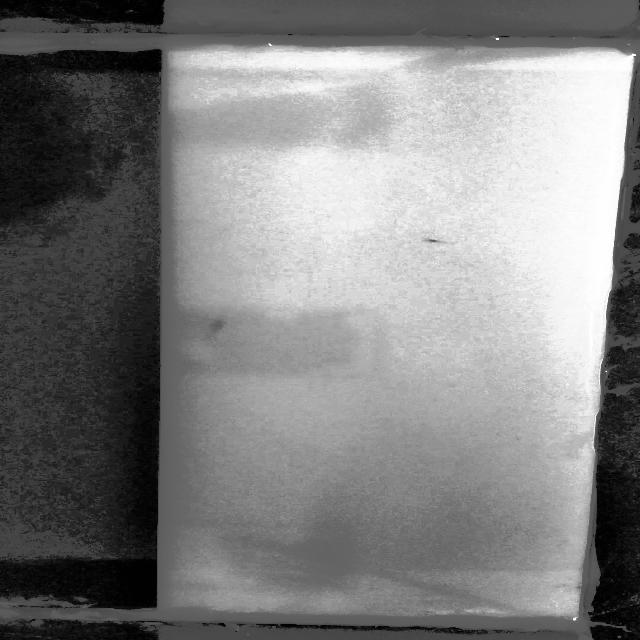shrimp: (203, 312, 231, 340), (418, 234, 469, 248)
